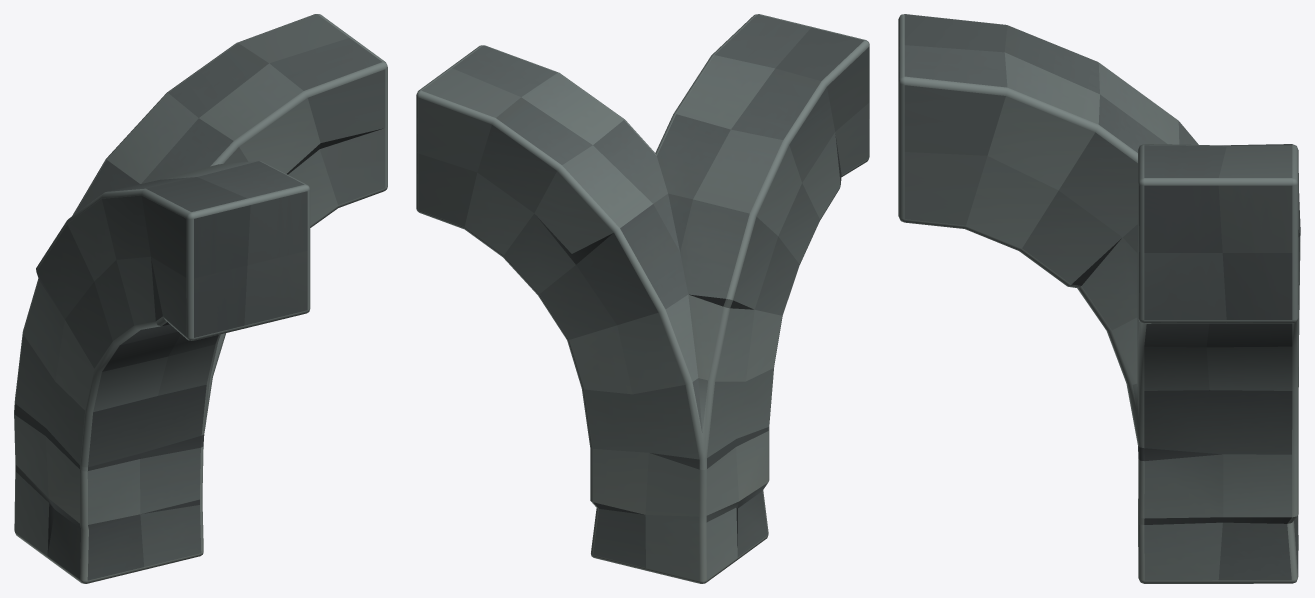
File: tavern_cellar_arch_2.fbx
3 renders of one model, left to right at view 1: azimuth 30°, elevation 25°; view 2: azimuth 150°, elevation 25°; view 3: azimuth 270°, elevation 25°, orthographic. The views are drawn at different scales.
Parts seen in each view (by area): view 1: tavern_cellar_arch_2_LOD0; view 2: tavern_cellar_arch_2_LOD0; view 3: tavern_cellar_arch_2_LOD0.
Boxes of the visible parts, <box> form: tavern_cellar_arch_2_LOD0: <box>14,14,387,583</box>; tavern_cellar_arch_2_LOD0: <box>416,14,869,583</box>; tavern_cellar_arch_2_LOD0: <box>898,14,1300,583</box>.
Size of what is drawn, in the model's own units: 253 by 350 by 251.
